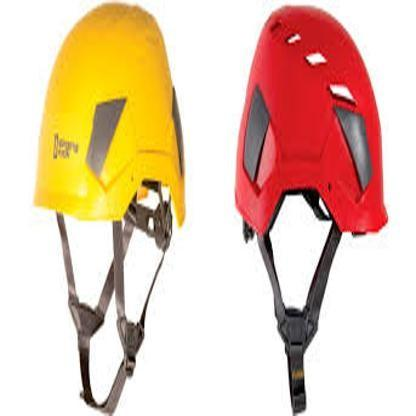not trash: (36, 2, 201, 414), (236, 6, 385, 412)
